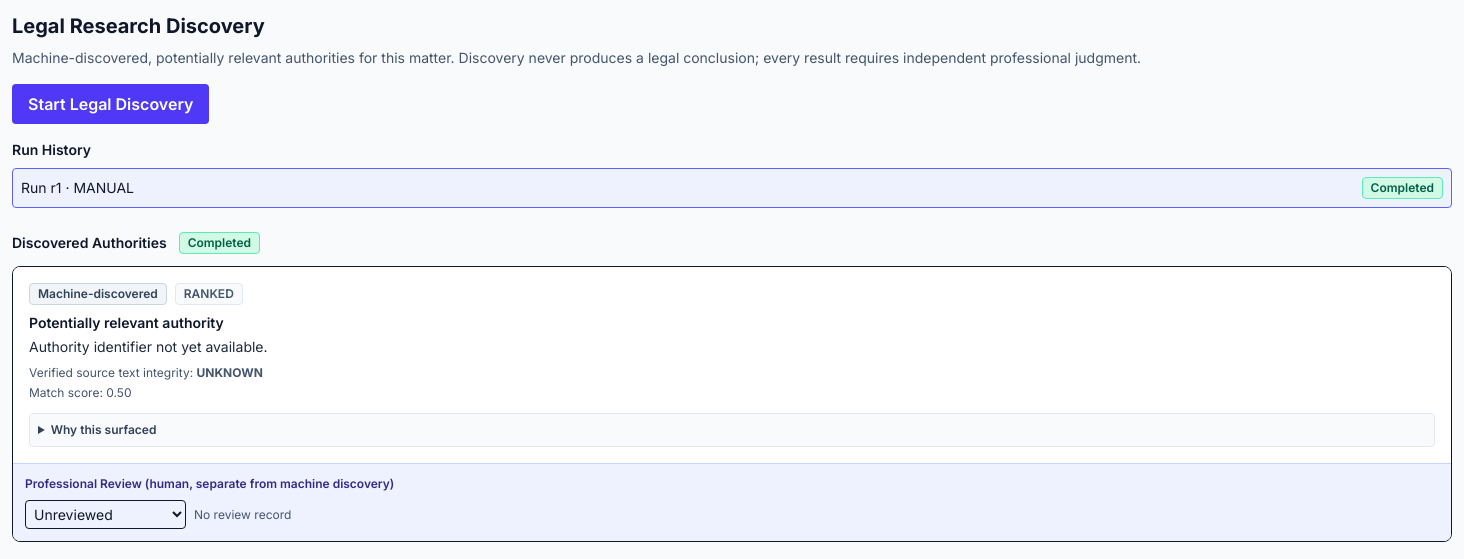
it: Stage 9D-3 LegalDiscoveryTab › review action uses the real write contract and persists after refetch
Check: the text "Machine-discovered" is shown, box x1=29 y1=283 x2=167 y2=305
Select "Confirmed Relevant" in the dropdown named "Professional review status": {"x": 106, "y": 514} x1=25 y1=500 x2=186 y2=529
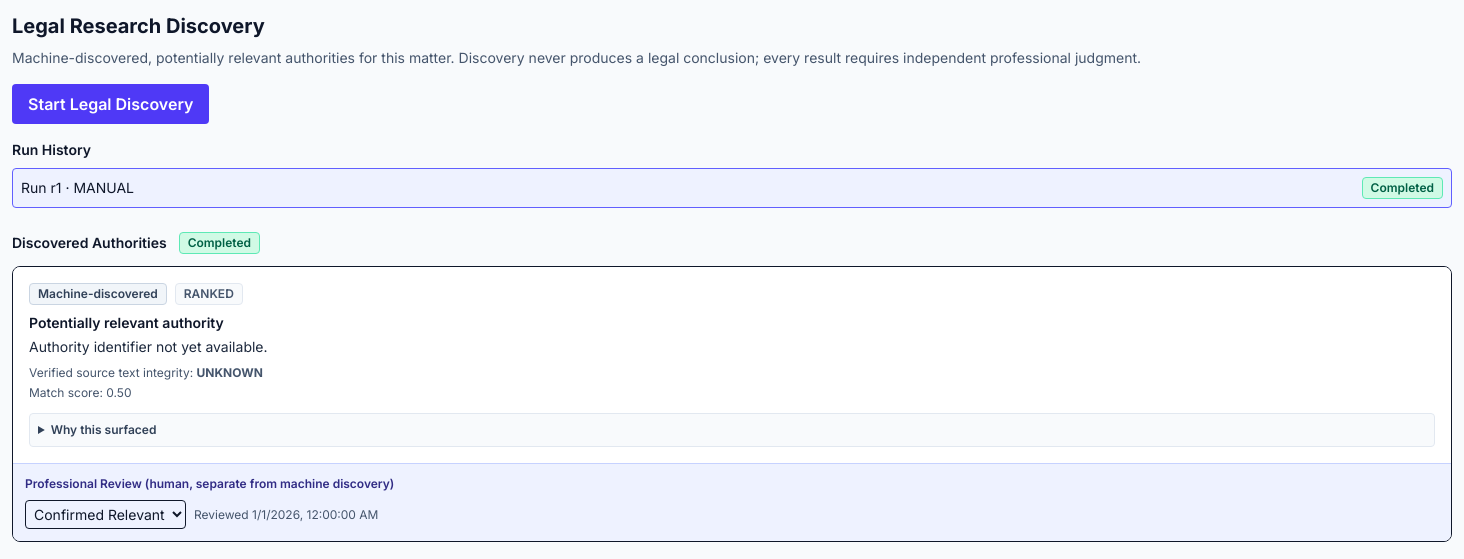
Check: the text "Reviewed 1/1/2026, 12:00:00 AM" is shown, box x1=194 y1=506 x2=378 y2=522
